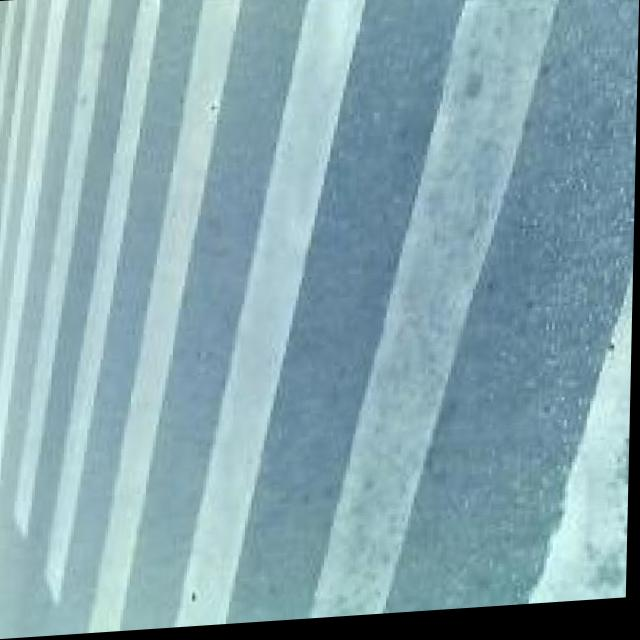zebra: (0, 46, 615, 478)
